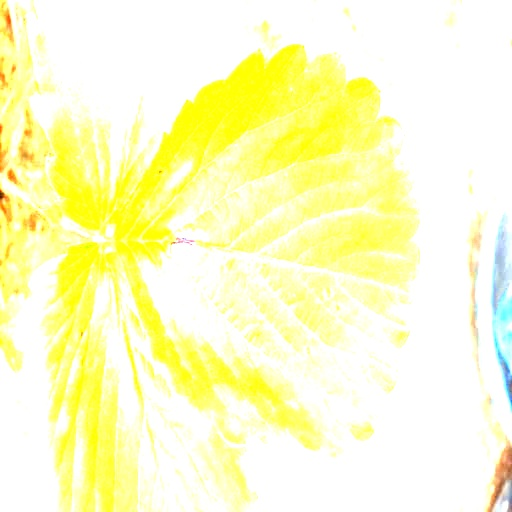Leaf Spot: (96, 42, 423, 462), (14, 241, 260, 511)
